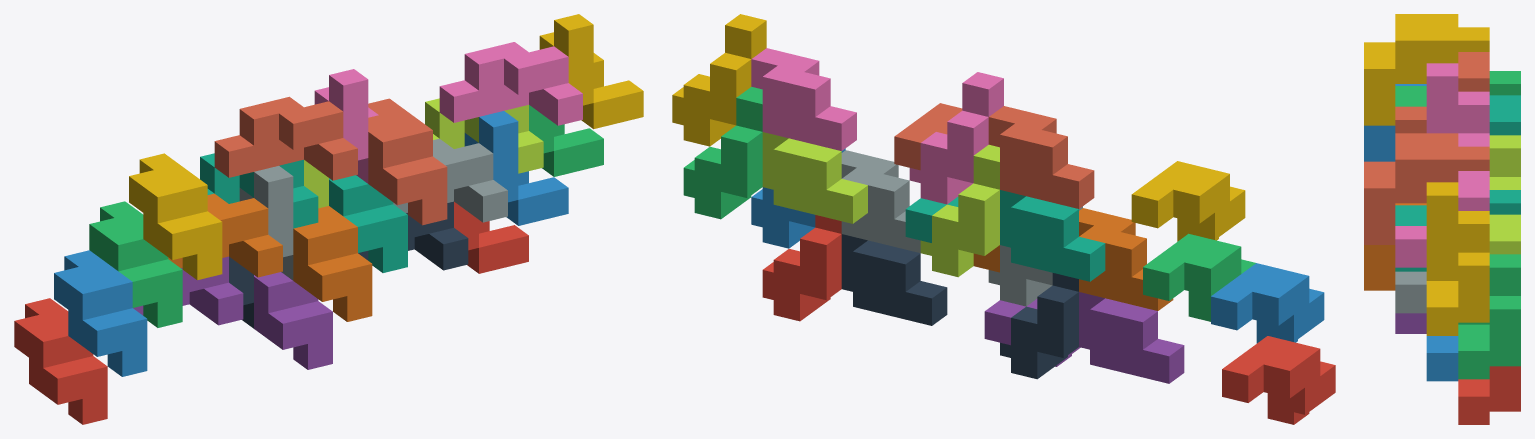
Rendered from tiling.obj.
3 renders of one model, left to right at view 1: azimuth 30°, elevation 25°; view 2: azimuth 150°, elevation 25°; view 3: azimuth 270°, elevation 25°, orthographic. The views are drawn at different scales.
Parts seen in each view (by area): view 1: copy_3_domain_4, copy_3_domain_8, copy_1_domain_4, copy_1_domain_2, copy_1_domain_8, copy_1_domain_1, copy_1_domain_6, copy_1_domain_3, copy_1_domain_5, copy_2_domain_8, copy_2_domain_6, copy_1_domain_7 (+12 smaller); view 2: copy_3_domain_8, copy_3_domain_4, copy_1_domain_1, copy_3_domain_5, copy_3_domain_7, copy_3_domain_1, copy_3_domain_3, copy_1_domain_4, copy_2_domain_8, copy_1_domain_2, copy_2_domain_7, copy_2_domain_4 (+11 smaller); view 3: copy_2_domain_8, copy_1_domain_8, copy_1_domain_4, copy_2_domain_7, copy_2_domain_4, copy_2_domain_5, copy_3_domain_8, copy_3_domain_4, copy_2_domain_3, copy_1_domain_7, copy_1_domain_6, copy_2_domain_6 (+6 smaller).
Boxes of the visible parts, x1,y1,x2,y2 form: copy_3_domain_4: (214,96,357,180); copy_3_domain_8: (439,42,582,125); copy_1_domain_4: (129,153,222,280); copy_1_domain_2: (54,250,147,376); copy_1_domain_8: (368,98,447,225); copy_1_domain_1: (14,298,107,424); copy_1_domain_6: (293,206,372,321); copy_1_domain_3: (89,201,182,327); copy_1_domain_5: (254,272,332,369); copy_2_domain_8: (539,14,643,129); copy_2_domain_6: (464,111,568,225); copy_1_domain_7: (329,175,407,272); copy_3_domain_8: (751,48,856,150); copy_3_domain_4: (988,106,1094,208); copy_1_domain_1: (1222,336,1335,424); copy_3_domain_5: (841,234,947,325); copy_3_domain_7: (762,132,867,223); copy_3_domain_1: (1079,292,1184,383); copy_3_domain_3: (1000,190,1105,281); copy_1_domain_4: (1131,161,1245,241); copy_2_domain_8: (672,14,766,146); copy_1_domain_2: (1211,263,1324,343); copy_2_domain_7: (683,87,762,219); copy_2_domain_4: (909,72,1003,204); copy_2_domain_8: (1426,182,1489,335); copy_1_domain_8: (1364,133,1489,244); copy_1_domain_4: (1364,14,1489,125); copy_2_domain_7: (1458,254,1520,379); copy_2_domain_4: (1426,63,1489,146); copy_2_domain_5: (1458,366,1520,424); copy_3_domain_8: (1395,171,1489,267); copy_3_domain_4: (1395,52,1489,133); copy_2_domain_3: (1489,135,1520,189); copy_1_domain_7: (1395,190,1520,271); copy_1_domain_6: (1364,203,1426,290); copy_2_domain_6: (1426,336,1458,381).
Bounding box in the file's own units: 24 × 10 × 5.
